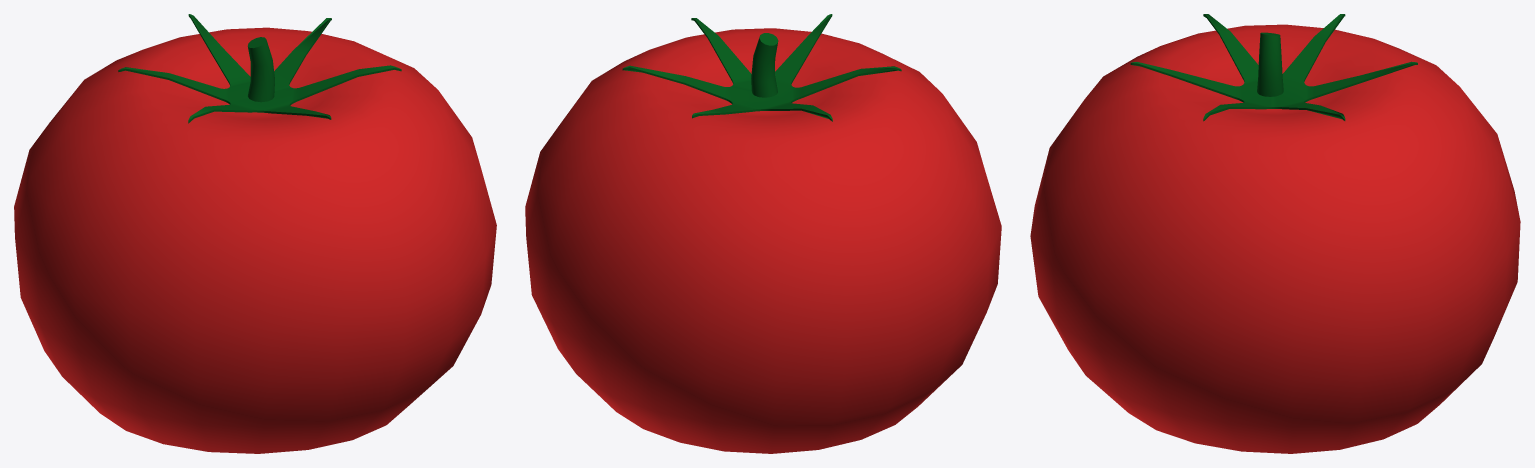
The model's file is Tomato.glb.
3 renders of one model, left to right at view 1: azimuth 30°, elevation 25°; view 2: azimuth 150°, elevation 25°; view 3: azimuth 270°, elevation 25°, orthographic. The views are drawn at different scales.
Visible parts, largest first — view 1: Leaf; view 2: Leaf; view 3: Leaf.
Part boxes in pixels (bbox=[...]): Leaf: bbox=[14, 14, 496, 453]; Leaf: bbox=[525, 14, 1001, 453]; Leaf: bbox=[1030, 14, 1520, 453].
Bounding box in the file's own units: 0.1184 × 0.1018 × 0.1185.
